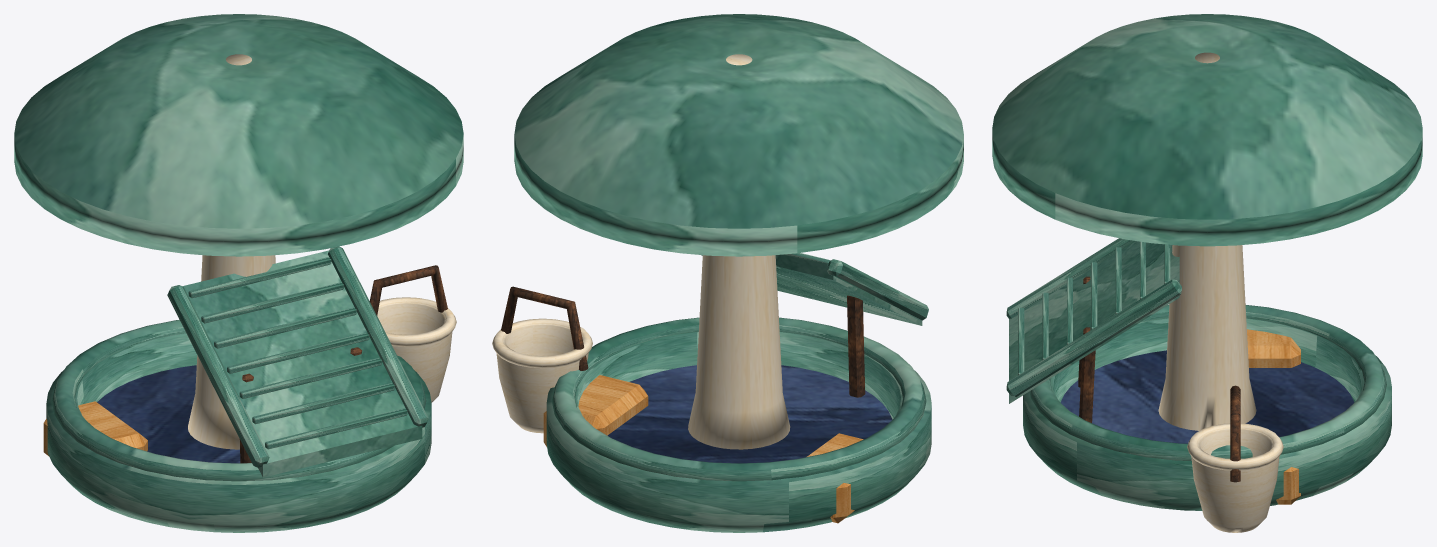
File: 04_BK候选_未校准.glb
The picture shows the model from 3 angles, left to right: view 1: azimuth 30°, elevation 25°; view 2: azimuth 150°, elevation 25°; view 3: azimuth 270°, elevation 25°; orthographic projection. The views are drawn at different scales.
Visible parts, largest first — view 1: mushroom_wash; view 2: mushroom_wash; view 3: mushroom_wash.
Part boxes in pixels (box(x1,y1,x2,y2)): mushroom_wash: box(14, 14, 463, 532); mushroom_wash: box(492, 14, 963, 532); mushroom_wash: box(992, 14, 1422, 532).
Size of the model in its own units: 1.67 by 1.52 by 1.54.
Materials: 1 (1 with a texture image).
